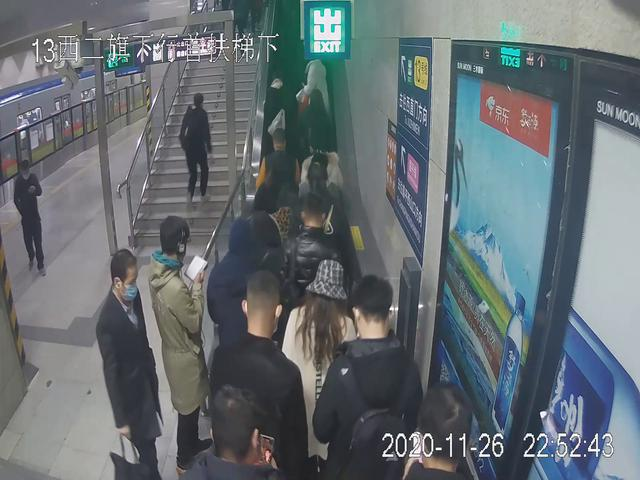person: (306, 273, 430, 480), (275, 257, 377, 472), (212, 268, 307, 480), (141, 214, 210, 480), (95, 248, 171, 480), (176, 90, 212, 216), (10, 159, 49, 271)
